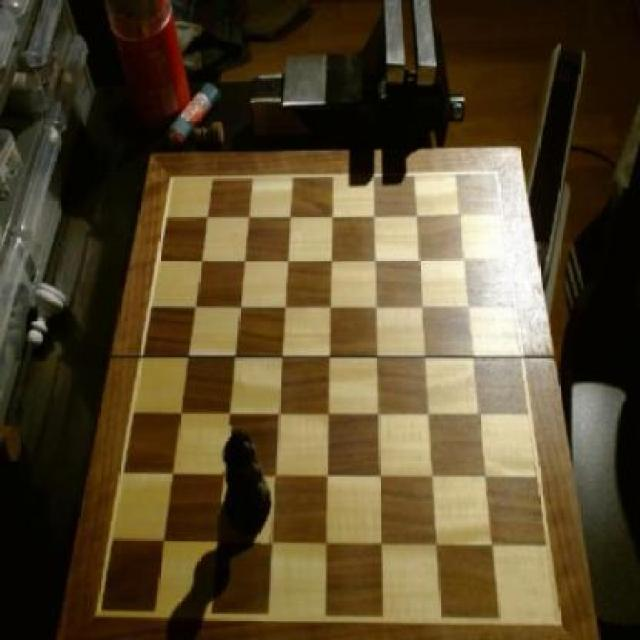black-bishop: (220, 428, 275, 544)
